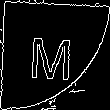M_N: (31, 28, 79, 82)
